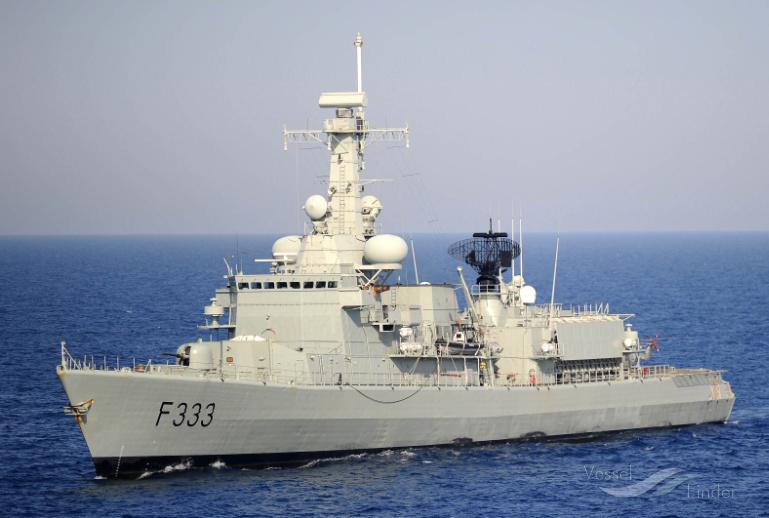OCR: (145, 397, 219, 439)
